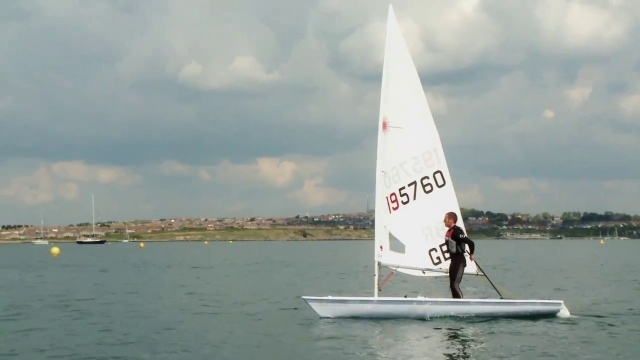person: (443, 216, 475, 300)
